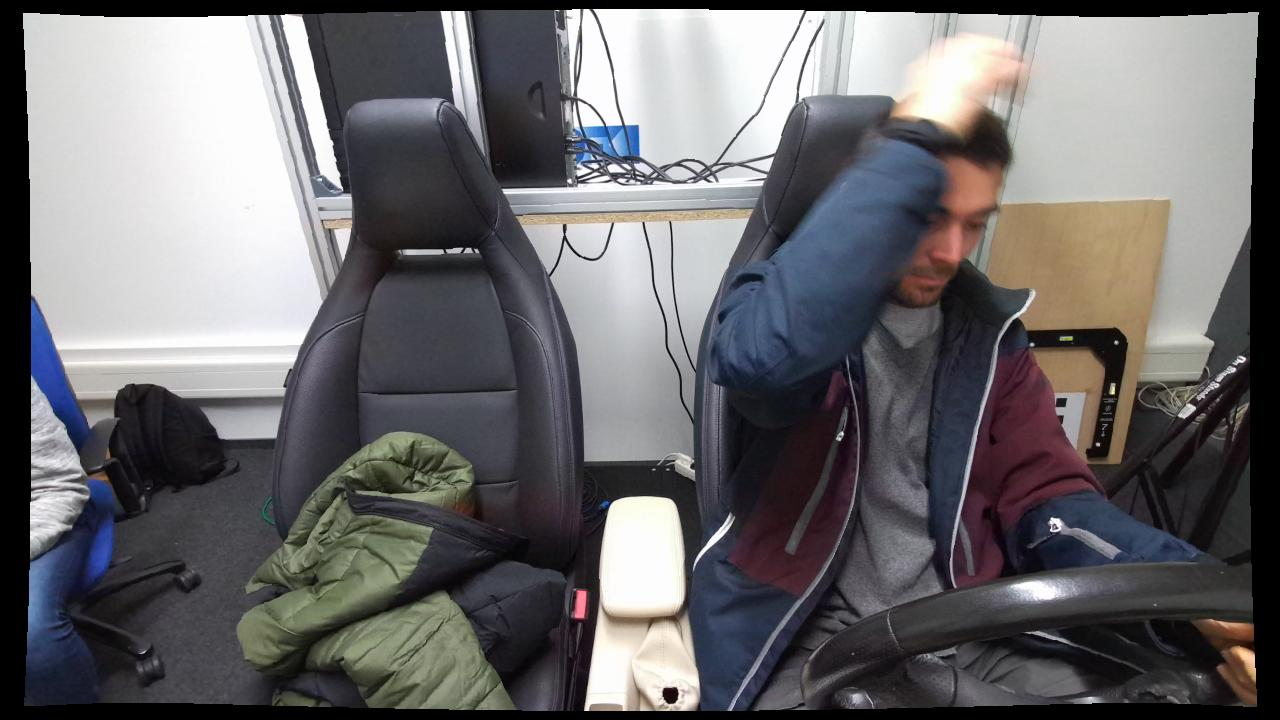Distracted: (701, 29, 1118, 705)
